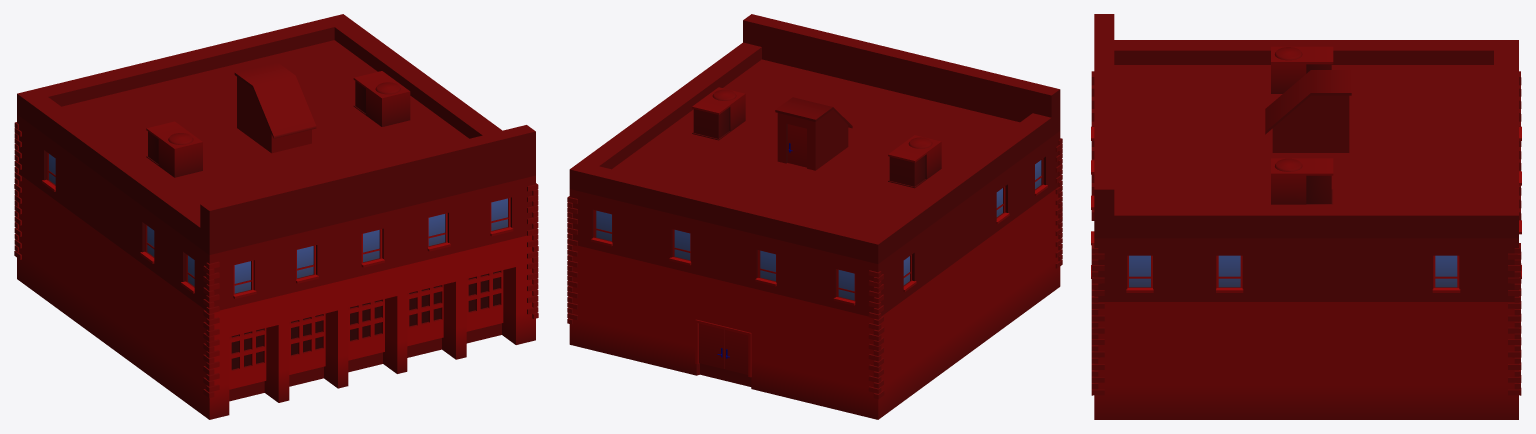
The model's file is buildings-business-firestation_v1.fbx.
3 views of the same model, side by side, from view 1: azimuth 30°, elevation 25°; view 2: azimuth 150°, elevation 25°; view 3: azimuth 270°, elevation 25° (orthographic). The views are drawn at different scales.
Parts seen in each view (by area): view 1: FireStation_base, FireStation_windowRefl; view 2: FireStation_base, FireStation_windowRefl; view 3: FireStation_base, FireStation_windowRefl.
Boxes of the visible parts, x1,y1,x2,y2 form: FireStation_base: (14,14,538,419); FireStation_windowRefl: (49,154,507,293); FireStation_base: (567,14,1062,419); FireStation_windowRefl: (596,160,1041,300); FireStation_base: (1091,14,1521,419); FireStation_windowRefl: (1129,255,1457,287).
Bounding box in the file's own units: 23.52 × 15.53 × 24.15.
